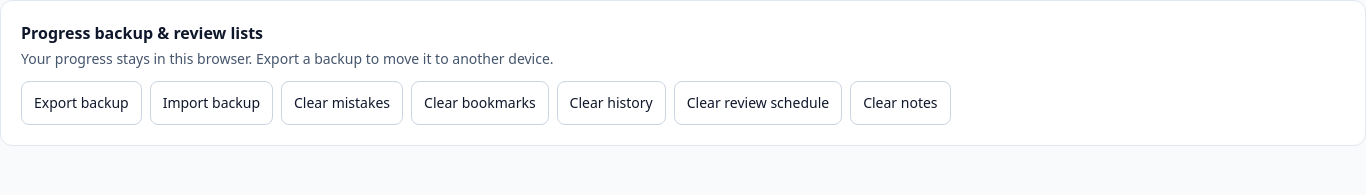
Test: ProgressTools › reports a browser failure while creating an export
The image size is (1366, 195).
Click the button "Export backup" at (81, 103), box top-left (21, 81), bottom-right (142, 125)
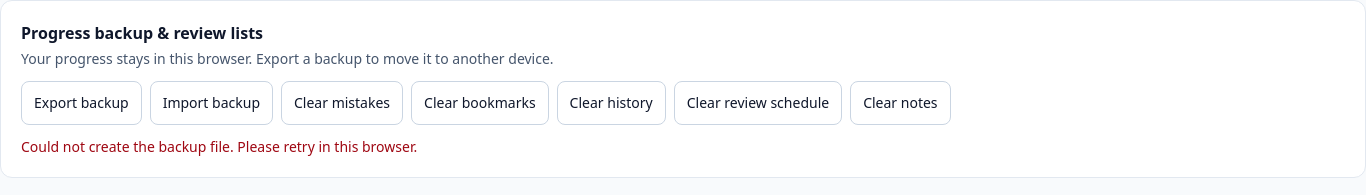
Result: the message shows "Could not create the backup file" at top-left (21, 137), bottom-right (417, 156)
